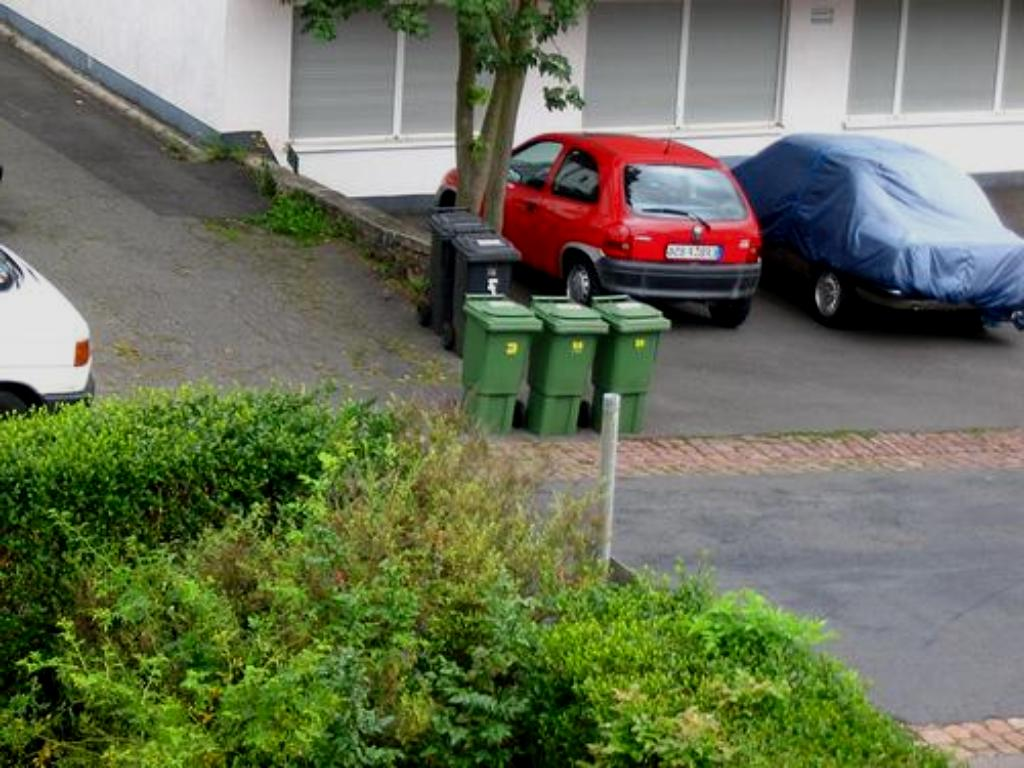dustbin: (439, 289, 671, 436), (521, 289, 612, 439), (454, 295, 546, 433), (594, 284, 672, 437)
